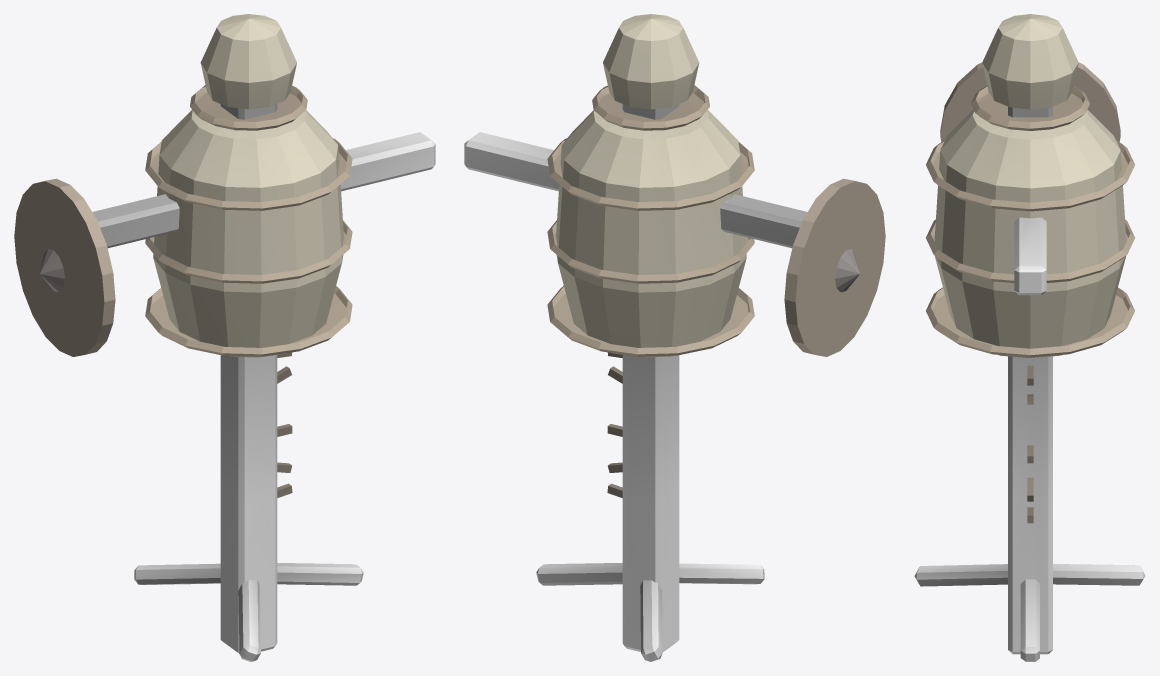
Rendered from training_dummy.glb.
3 views of the same model, side by side, from view 1: azimuth 30°, elevation 25°; view 2: azimuth 150°, elevation 25°; view 3: azimuth 270°, elevation 25° (orthographic).
Visible parts, largest first — view 1: arm; view 2: arm; view 3: arm.
Part boxes in pixels (x1,y1,x2,y2): arm: (14, 14, 435, 661); arm: (464, 14, 885, 661); arm: (914, 14, 1145, 661).
Bounding box in the file's own units: 1.4 × 2.15 × 0.7168.
